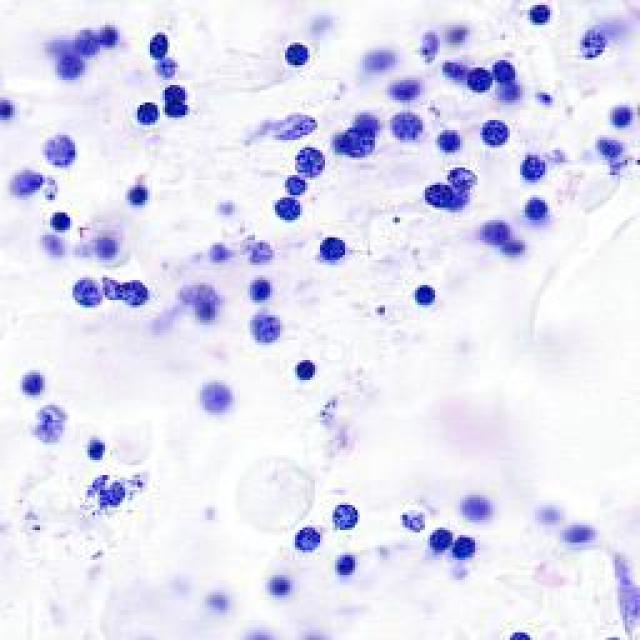cell: (88, 470, 146, 514), (257, 184, 309, 232), (150, 83, 204, 122), (254, 109, 324, 139), (39, 134, 90, 173), (180, 282, 223, 323), (338, 120, 382, 160), (294, 141, 335, 182), (116, 272, 152, 316), (26, 406, 68, 443), (62, 270, 102, 308), (199, 382, 239, 416), (386, 116, 431, 146), (251, 174, 318, 194), (324, 499, 366, 530), (572, 32, 614, 62), (245, 312, 288, 341), (460, 491, 502, 520), (283, 520, 321, 552), (14, 163, 44, 203), (471, 213, 509, 244), (16, 366, 55, 396), (194, 586, 234, 615), (280, 36, 316, 68), (325, 223, 349, 269), (127, 106, 169, 132), (593, 133, 626, 165), (452, 527, 480, 564), (358, 46, 401, 70), (394, 508, 428, 537), (466, 64, 495, 98), (528, 498, 565, 524), (482, 116, 513, 147), (414, 28, 442, 62), (520, 190, 554, 218), (412, 276, 437, 312), (450, 166, 484, 192), (288, 355, 320, 382), (523, 4, 562, 26), (522, 154, 556, 178), (334, 546, 359, 578), (428, 523, 451, 557), (56, 51, 86, 77), (492, 60, 524, 84), (572, 519, 595, 552), (267, 570, 296, 596), (124, 178, 155, 202), (246, 278, 278, 301), (83, 433, 110, 460), (146, 25, 170, 55), (44, 210, 79, 230), (94, 22, 120, 46), (612, 100, 633, 129), (68, 29, 94, 52), (502, 240, 528, 262), (440, 125, 464, 148), (438, 59, 462, 81), (158, 64, 189, 80), (512, 620, 532, 640), (4, 92, 17, 120)
